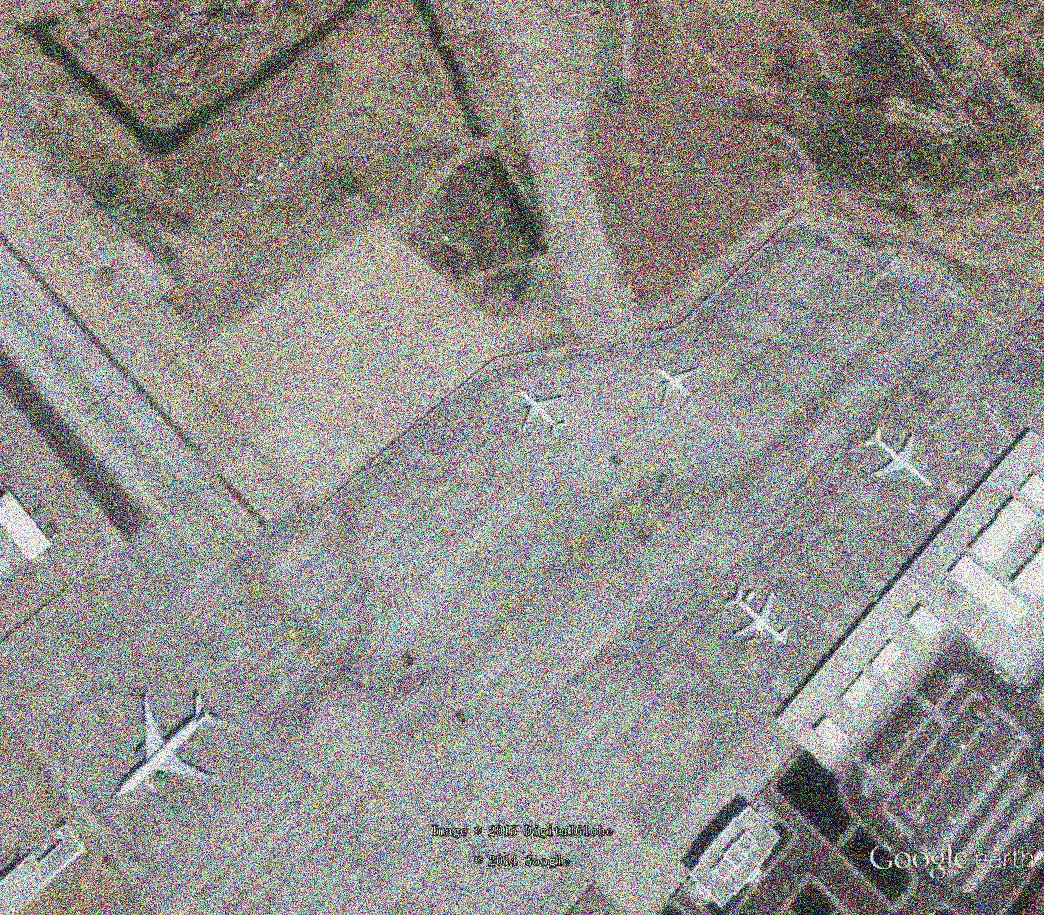aircraft: (109, 688, 232, 804), (859, 423, 936, 496), (721, 583, 790, 651), (513, 381, 568, 441), (652, 364, 708, 411)
